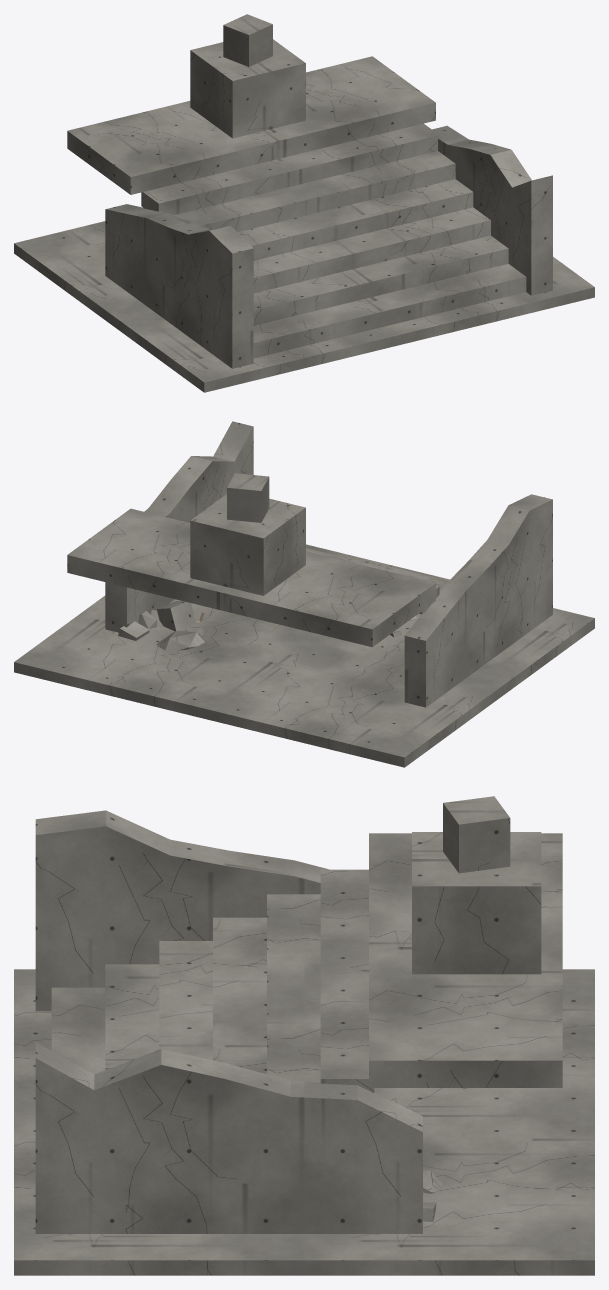
File: Plaza_Stairs.fbx
3 views of the same model, one above another, from view 1: azimuth 30°, elevation 25°; view 2: azimuth 150°, elevation 25°; view 3: azimuth 270°, elevation 25° (orthographic). The views are drawn at different scales.
Visible parts, largest first — view 1: Plaza_Stairs; view 2: Plaza_Stairs; view 3: Plaza_Stairs.
Boxes of the visible parts, left/top/right/bottom form: Plaza_Stairs: left=14, top=14, right=594, bottom=392; Plaza_Stairs: left=14, top=421, right=594, bottom=767; Plaza_Stairs: left=14, top=796, right=594, bottom=1275.
Bounding box in the file's own units: 6.4 × 3.34 × 5.4.
Materials: 2 (1 with a texture image).
